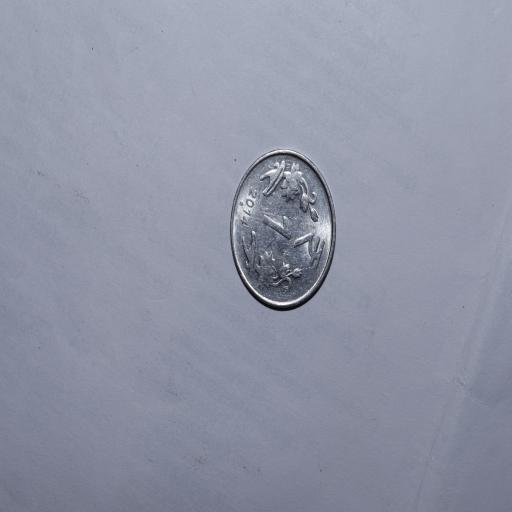rupee1: (226, 148, 336, 315)
